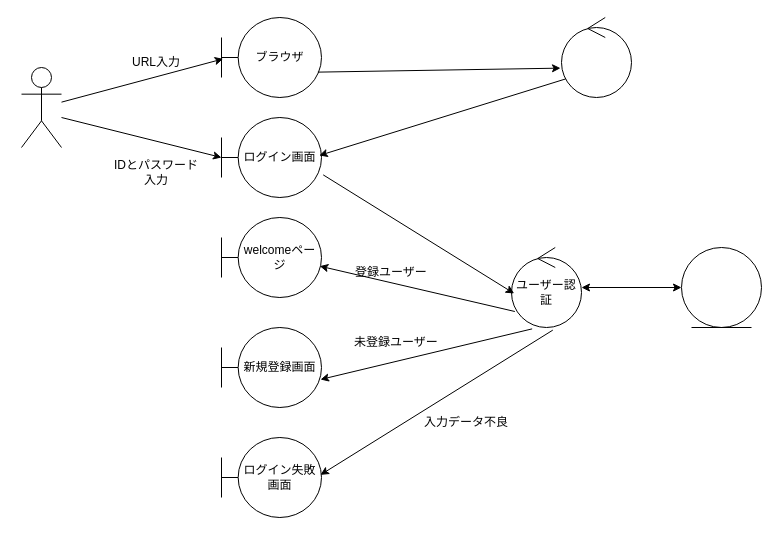
Image size: 779x535. Some labels were removed from this diagram. The shapes that lost their labels are listed below. From the top down, each one's centre as x and y in pixels, then its label:
(x=596, y=57): 表示画面
(x=41, y=107): ユーザー
(x=721, y=287): 訪問者
